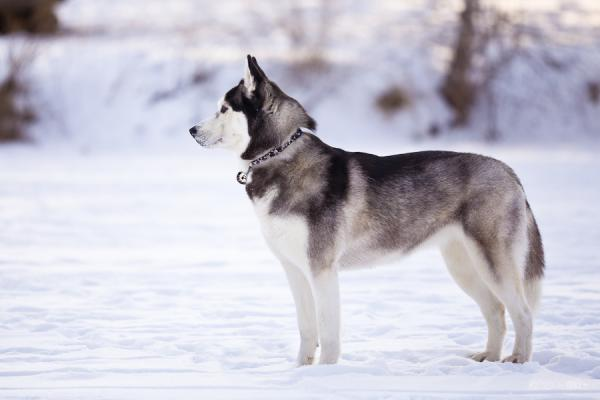husky: (177, 51, 547, 372)
